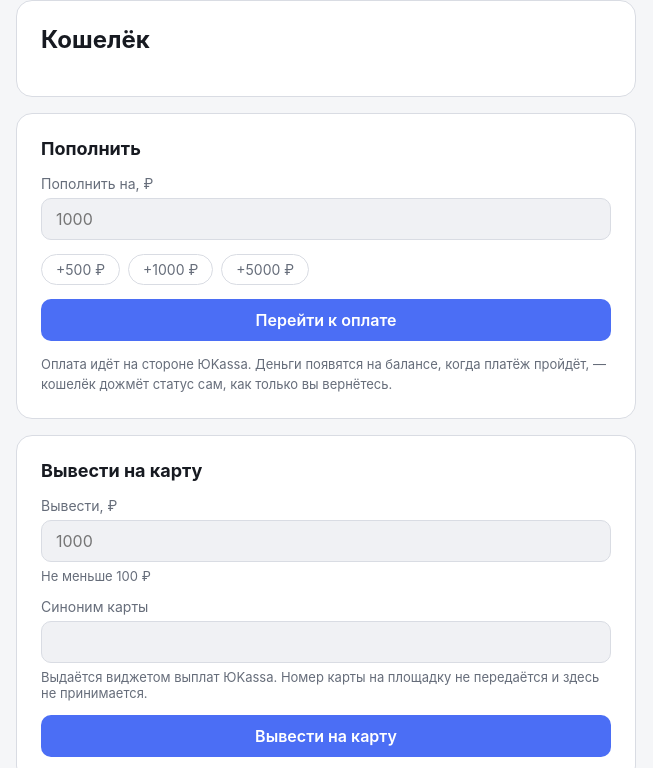
Test: вывод меньше минимального не отправляется
In the field labelled "Вывести, ₽": [326, 541] box left=41, top=520, right=611, bottom=562, type "50"
(page scrolled)
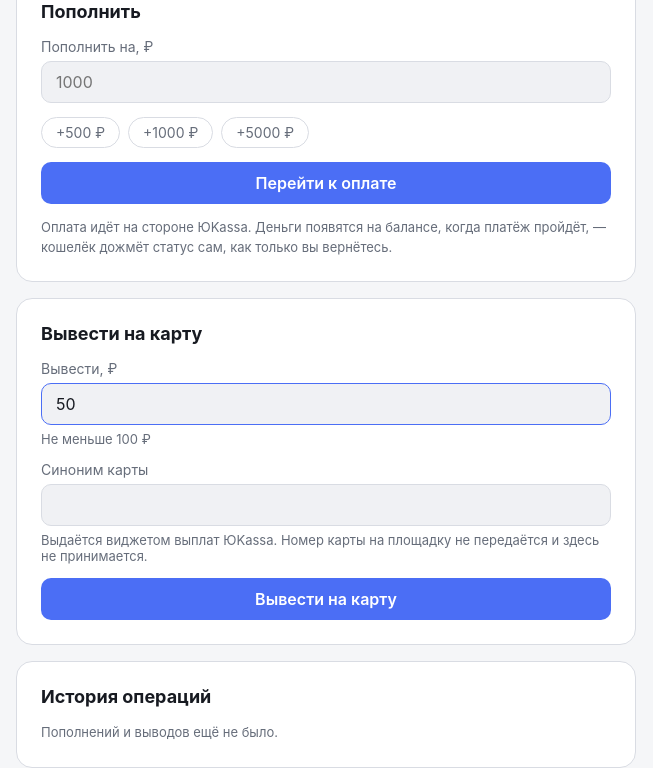
Click the button "Вывести на карту": [326, 599] box left=41, top=578, right=611, bottom=620
(page scrolled)
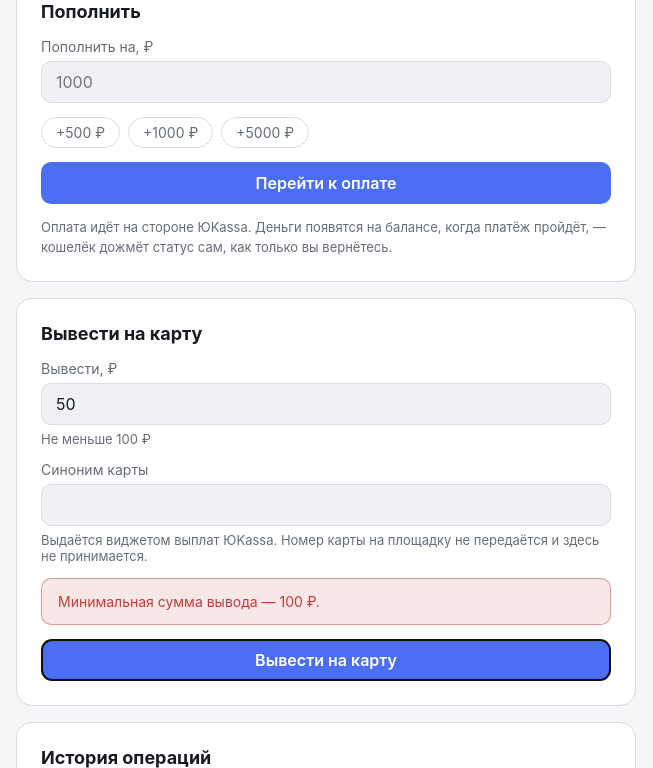
Expected: the message reads "Минимальная сумма вывода — 100 ₽.", left=58, top=593, right=320, bottom=610
